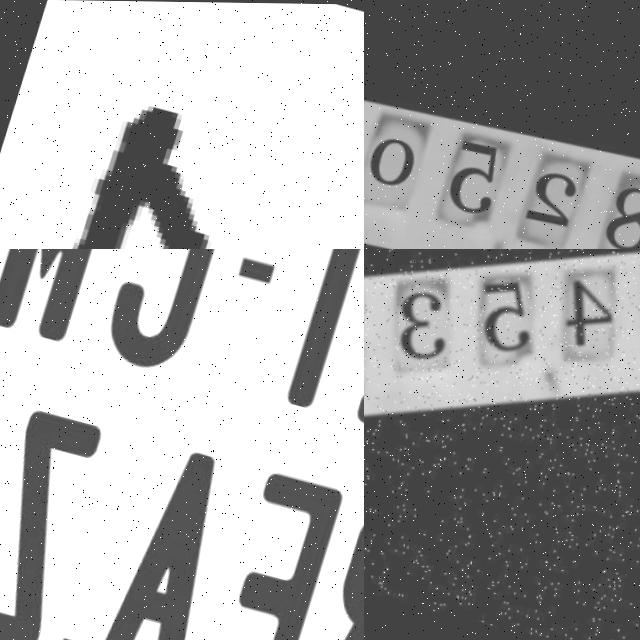0: (364, 110, 440, 210)
2: (518, 147, 599, 245)
3: (374, 263, 484, 383), (364, 266, 400, 394)
4: (539, 250, 640, 369)
5: (459, 254, 568, 374), (440, 127, 522, 227)
8: (595, 167, 640, 249)
A: (93, 437, 250, 640)
C: (98, 249, 249, 377)
E: (196, 462, 352, 640)
M: (0, 85, 364, 249), (0, 249, 139, 351)
R: (307, 490, 364, 640)
T: (262, 249, 364, 424)
Z: (0, 404, 113, 640)
